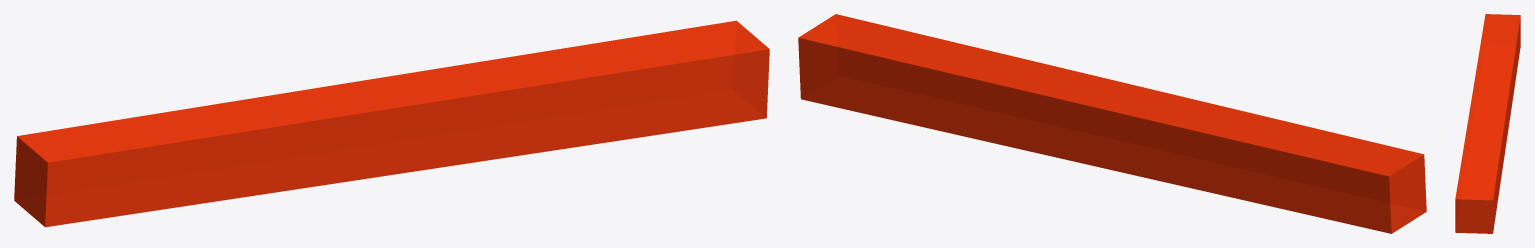
File: Event_421278790_EErechit_56.fbx
The picture shows the model from 3 angles, left to right: view 1: azimuth 30°, elevation 25°; view 2: azimuth 150°, elevation 25°; view 3: azimuth 270°, elevation 25°; orthographic projection. The views are drawn at different scales.
Parts seen in each view (by area): view 1: Model; view 2: Model; view 3: Model.
Boxes of the visible parts, x1=… form: Model: x1=14, y1=20, x2=769, y2=227; Model: x1=798, y1=14, x2=1426, y2=233; Model: x1=1455, y1=14, x2=1520, y2=233.
Bounding box in the file's own units: 0.8296 × 0.1154 × 0.1345.
